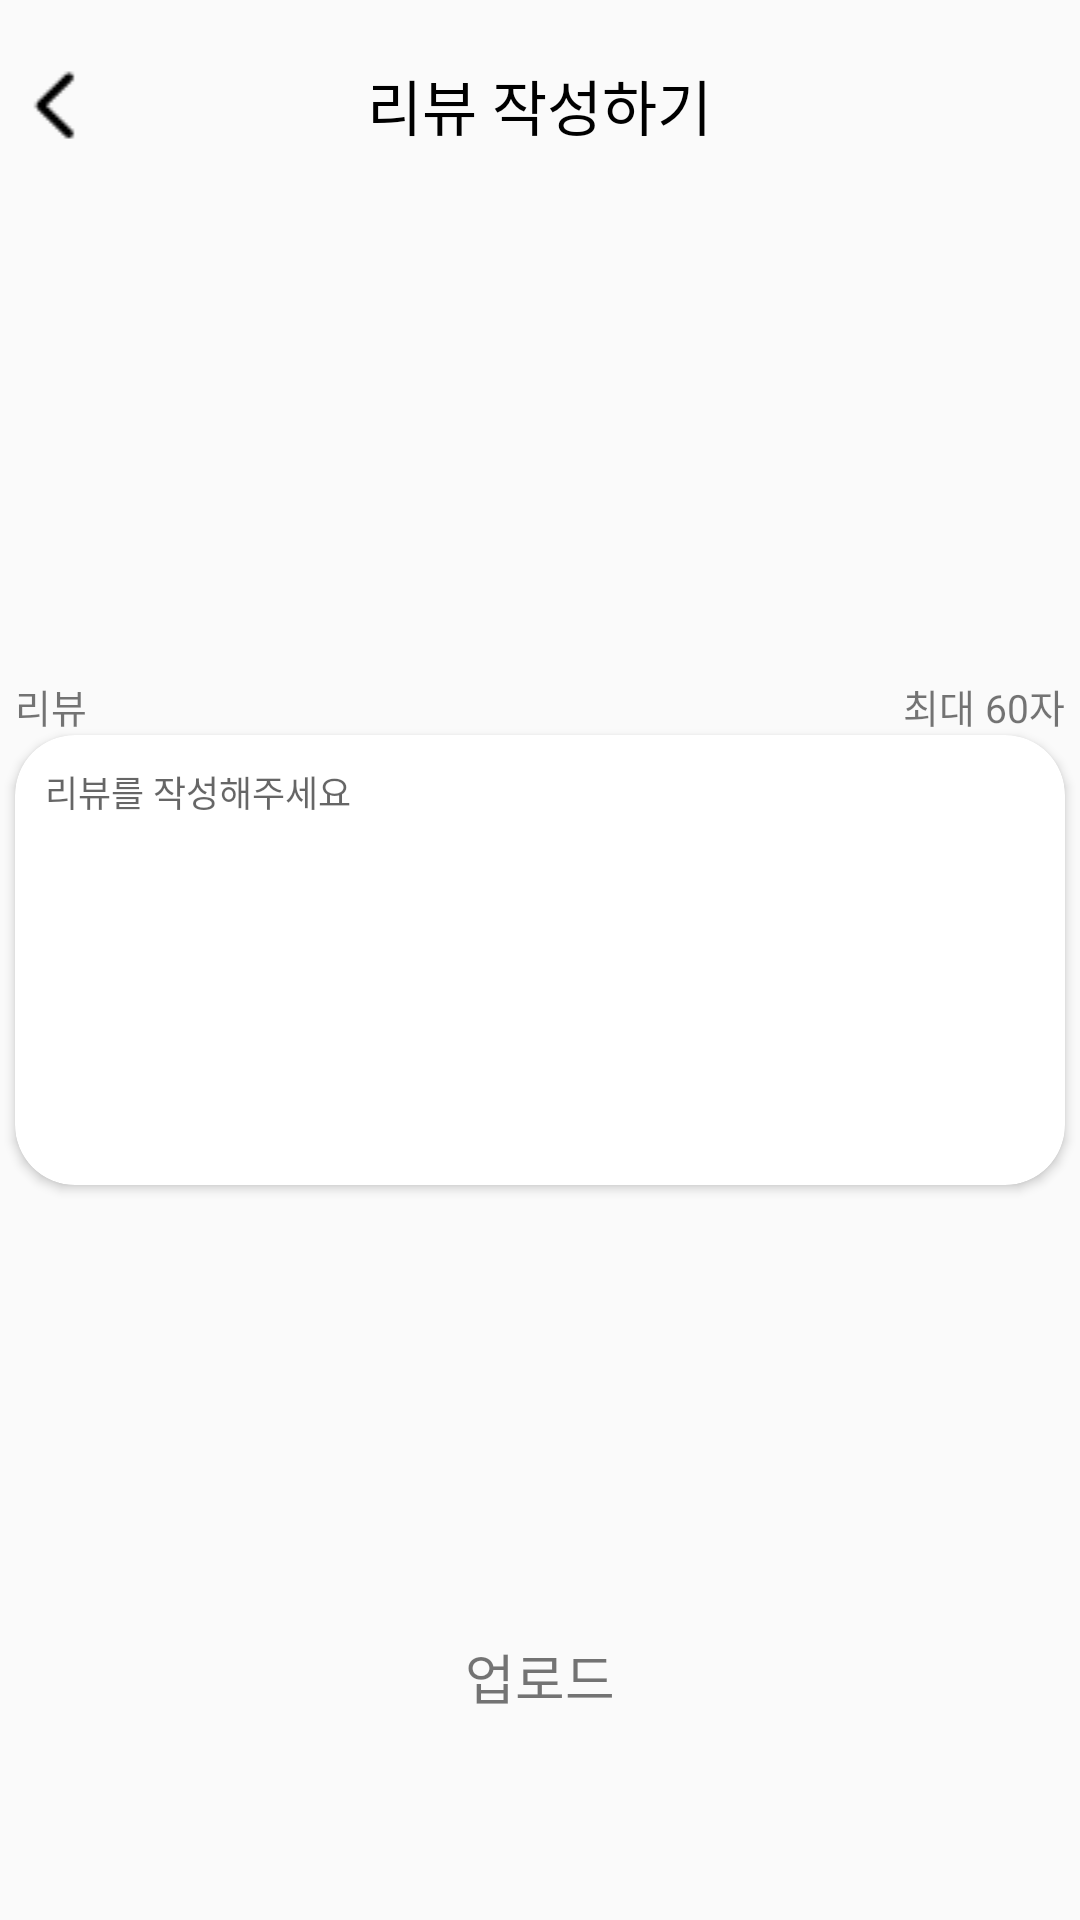

Screen size 1080*1920. Icon name, then its box in pixels as (x1, y1, x2, y2):
leftbtn: (34, 71, 75, 139)
